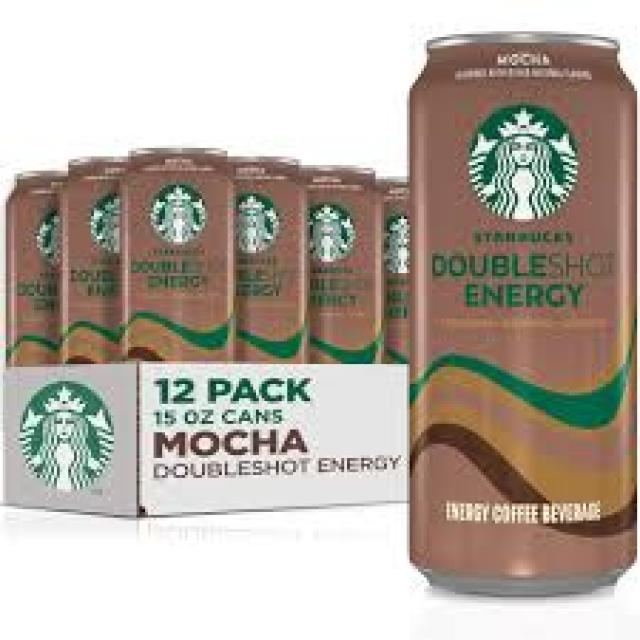Cans: (395, 23, 640, 603)
